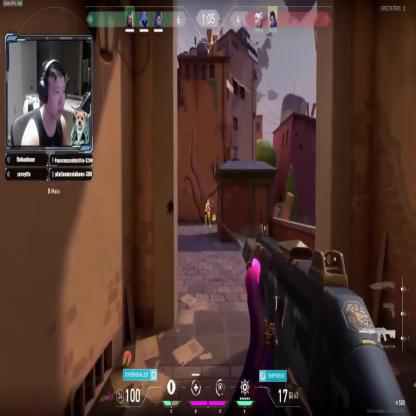enemy: (204, 198, 211, 228)
enemy_head: (207, 198, 209, 203)
